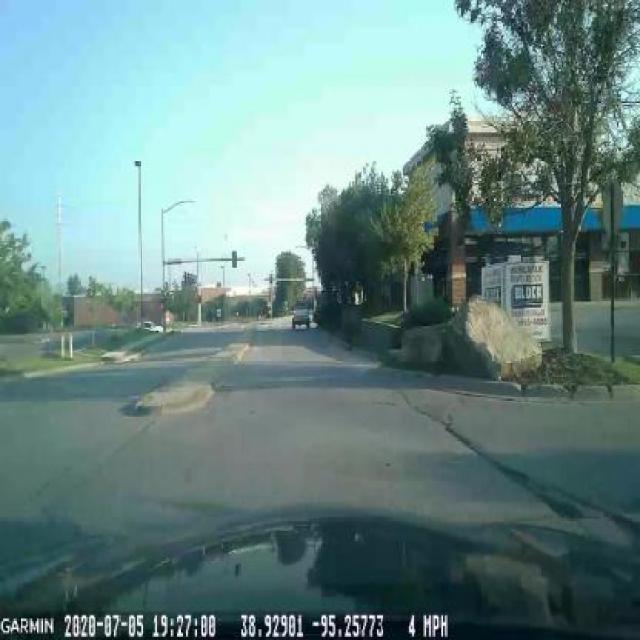Pothole: (540, 487, 591, 528), (492, 452, 537, 492)
